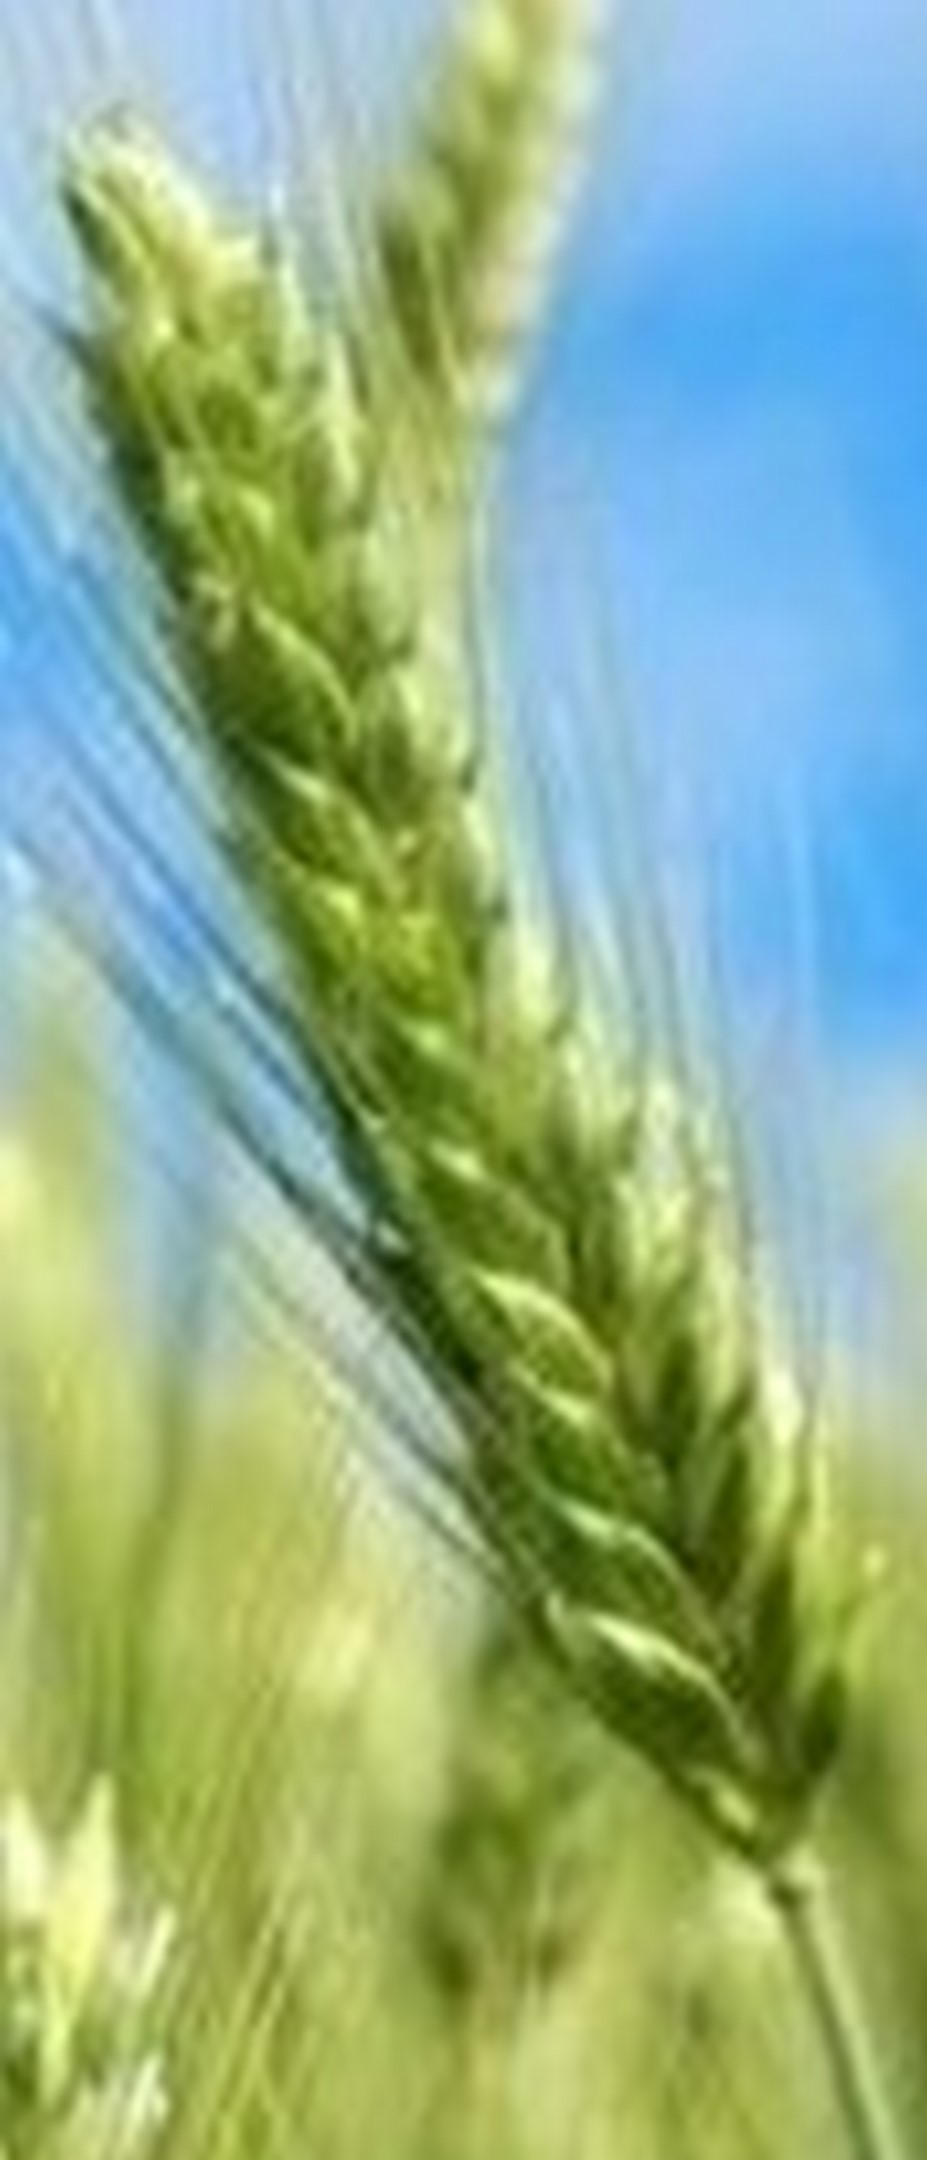Healthy Wheat: (48, 129, 927, 1789)
